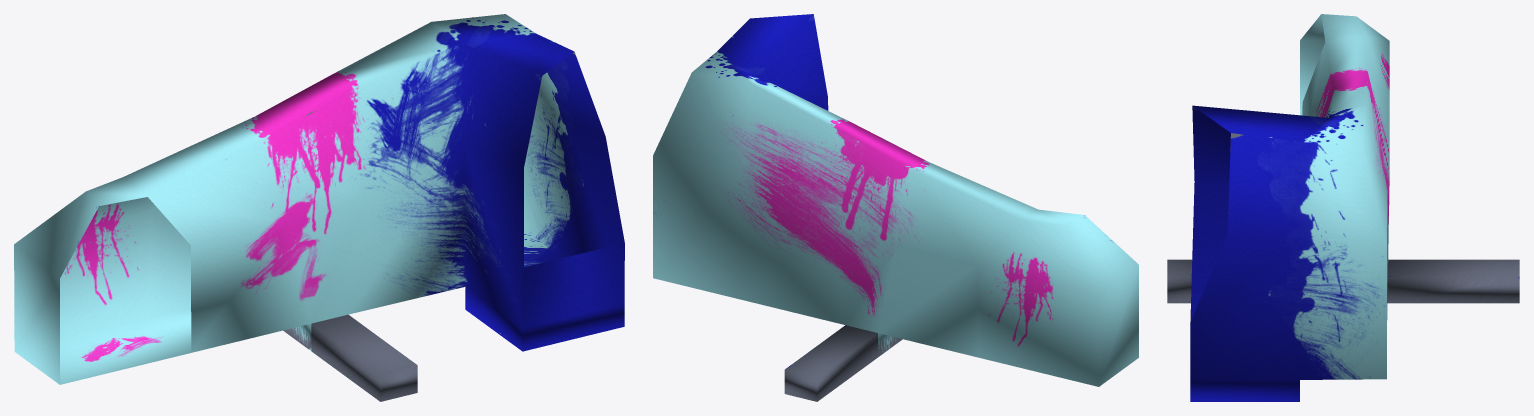
File: Room3New.fbx
The picture shows the model from 3 angles, left to right: view 1: azimuth 30°, elevation 25°; view 2: azimuth 150°, elevation 25°; view 3: azimuth 270°, elevation 25°; orthographic projection. The views are drawn at different scales.
Visible parts, largest first — view 1: raum3; view 2: raum3; view 3: raum3.
Boxes of the visible parts, bbox=[...] form: raum3: bbox=[14, 14, 624, 401]; raum3: bbox=[653, 14, 1138, 401]; raum3: bbox=[1167, 14, 1519, 401].
Bounding box in the file's own units: 19.85 × 10.22 × 12.45.
1 material, 1 textured.
